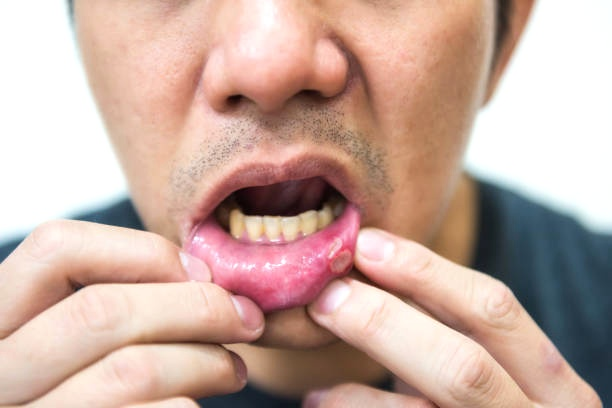Ulcer: (319, 235, 359, 276)
